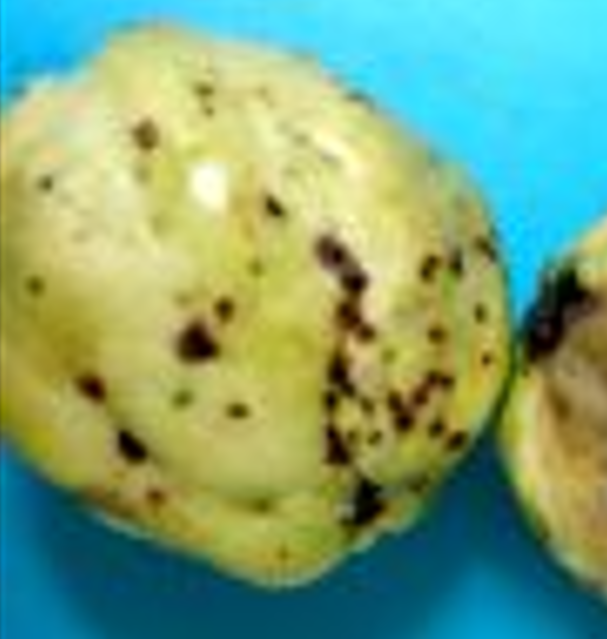guava_C: (1, 19, 517, 590)
